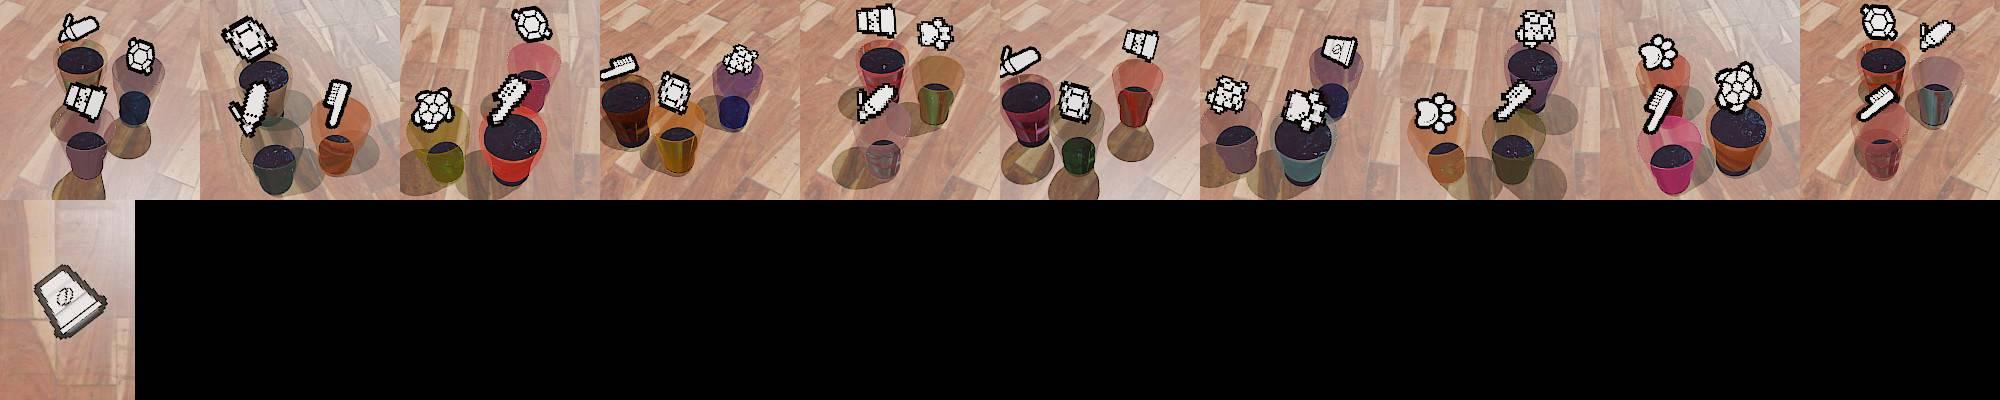icon: (33, 264, 107, 340), (219, 14, 278, 65), (1713, 60, 1761, 113), (228, 80, 270, 138), (1282, 85, 1332, 132), (489, 73, 532, 125), (411, 85, 455, 132), (1413, 90, 1458, 134), (1491, 79, 1536, 121), (61, 82, 107, 122), (1642, 83, 1677, 135), (1515, 8, 1559, 48), (1056, 79, 1094, 124), (856, 82, 897, 122), (657, 69, 693, 115), (1856, 84, 1897, 124), (1638, 33, 1680, 71), (1205, 74, 1245, 113), (510, 5, 551, 43), (321, 78, 352, 127), (999, 43, 1041, 79), (855, 4, 898, 37), (1860, 4, 1898, 41), (57, 13, 101, 45), (916, 17, 955, 51), (1918, 18, 1954, 52), (1121, 28, 1158, 61), (1320, 34, 1357, 68), (125, 37, 156, 76), (721, 45, 758, 76), (599, 51, 638, 82)
